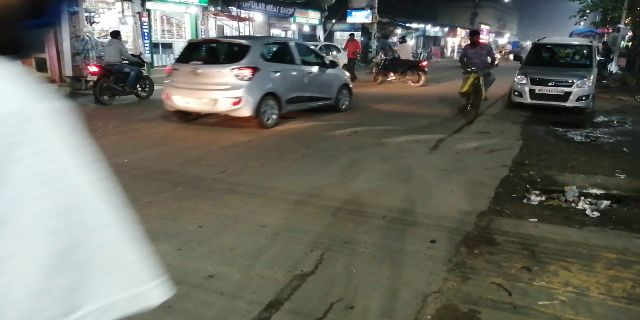Car: (163, 34, 353, 128), (508, 33, 601, 121)
Motorbike: (85, 30, 153, 105)
